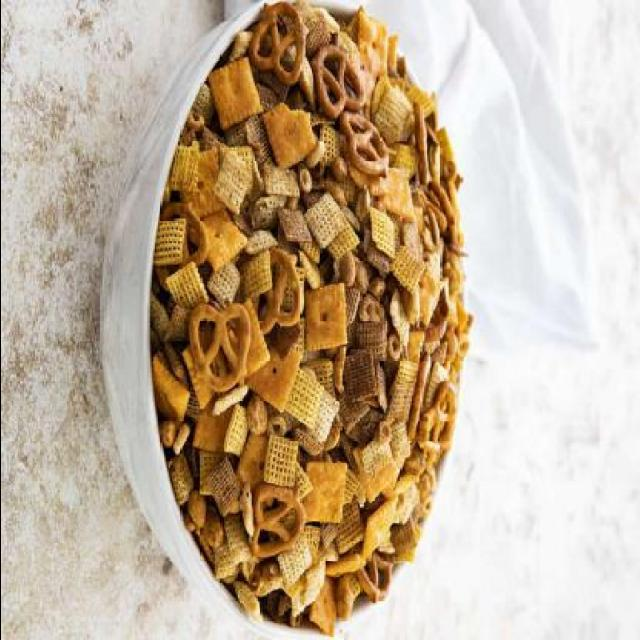Salatini packaged: (152, 12, 474, 616)
